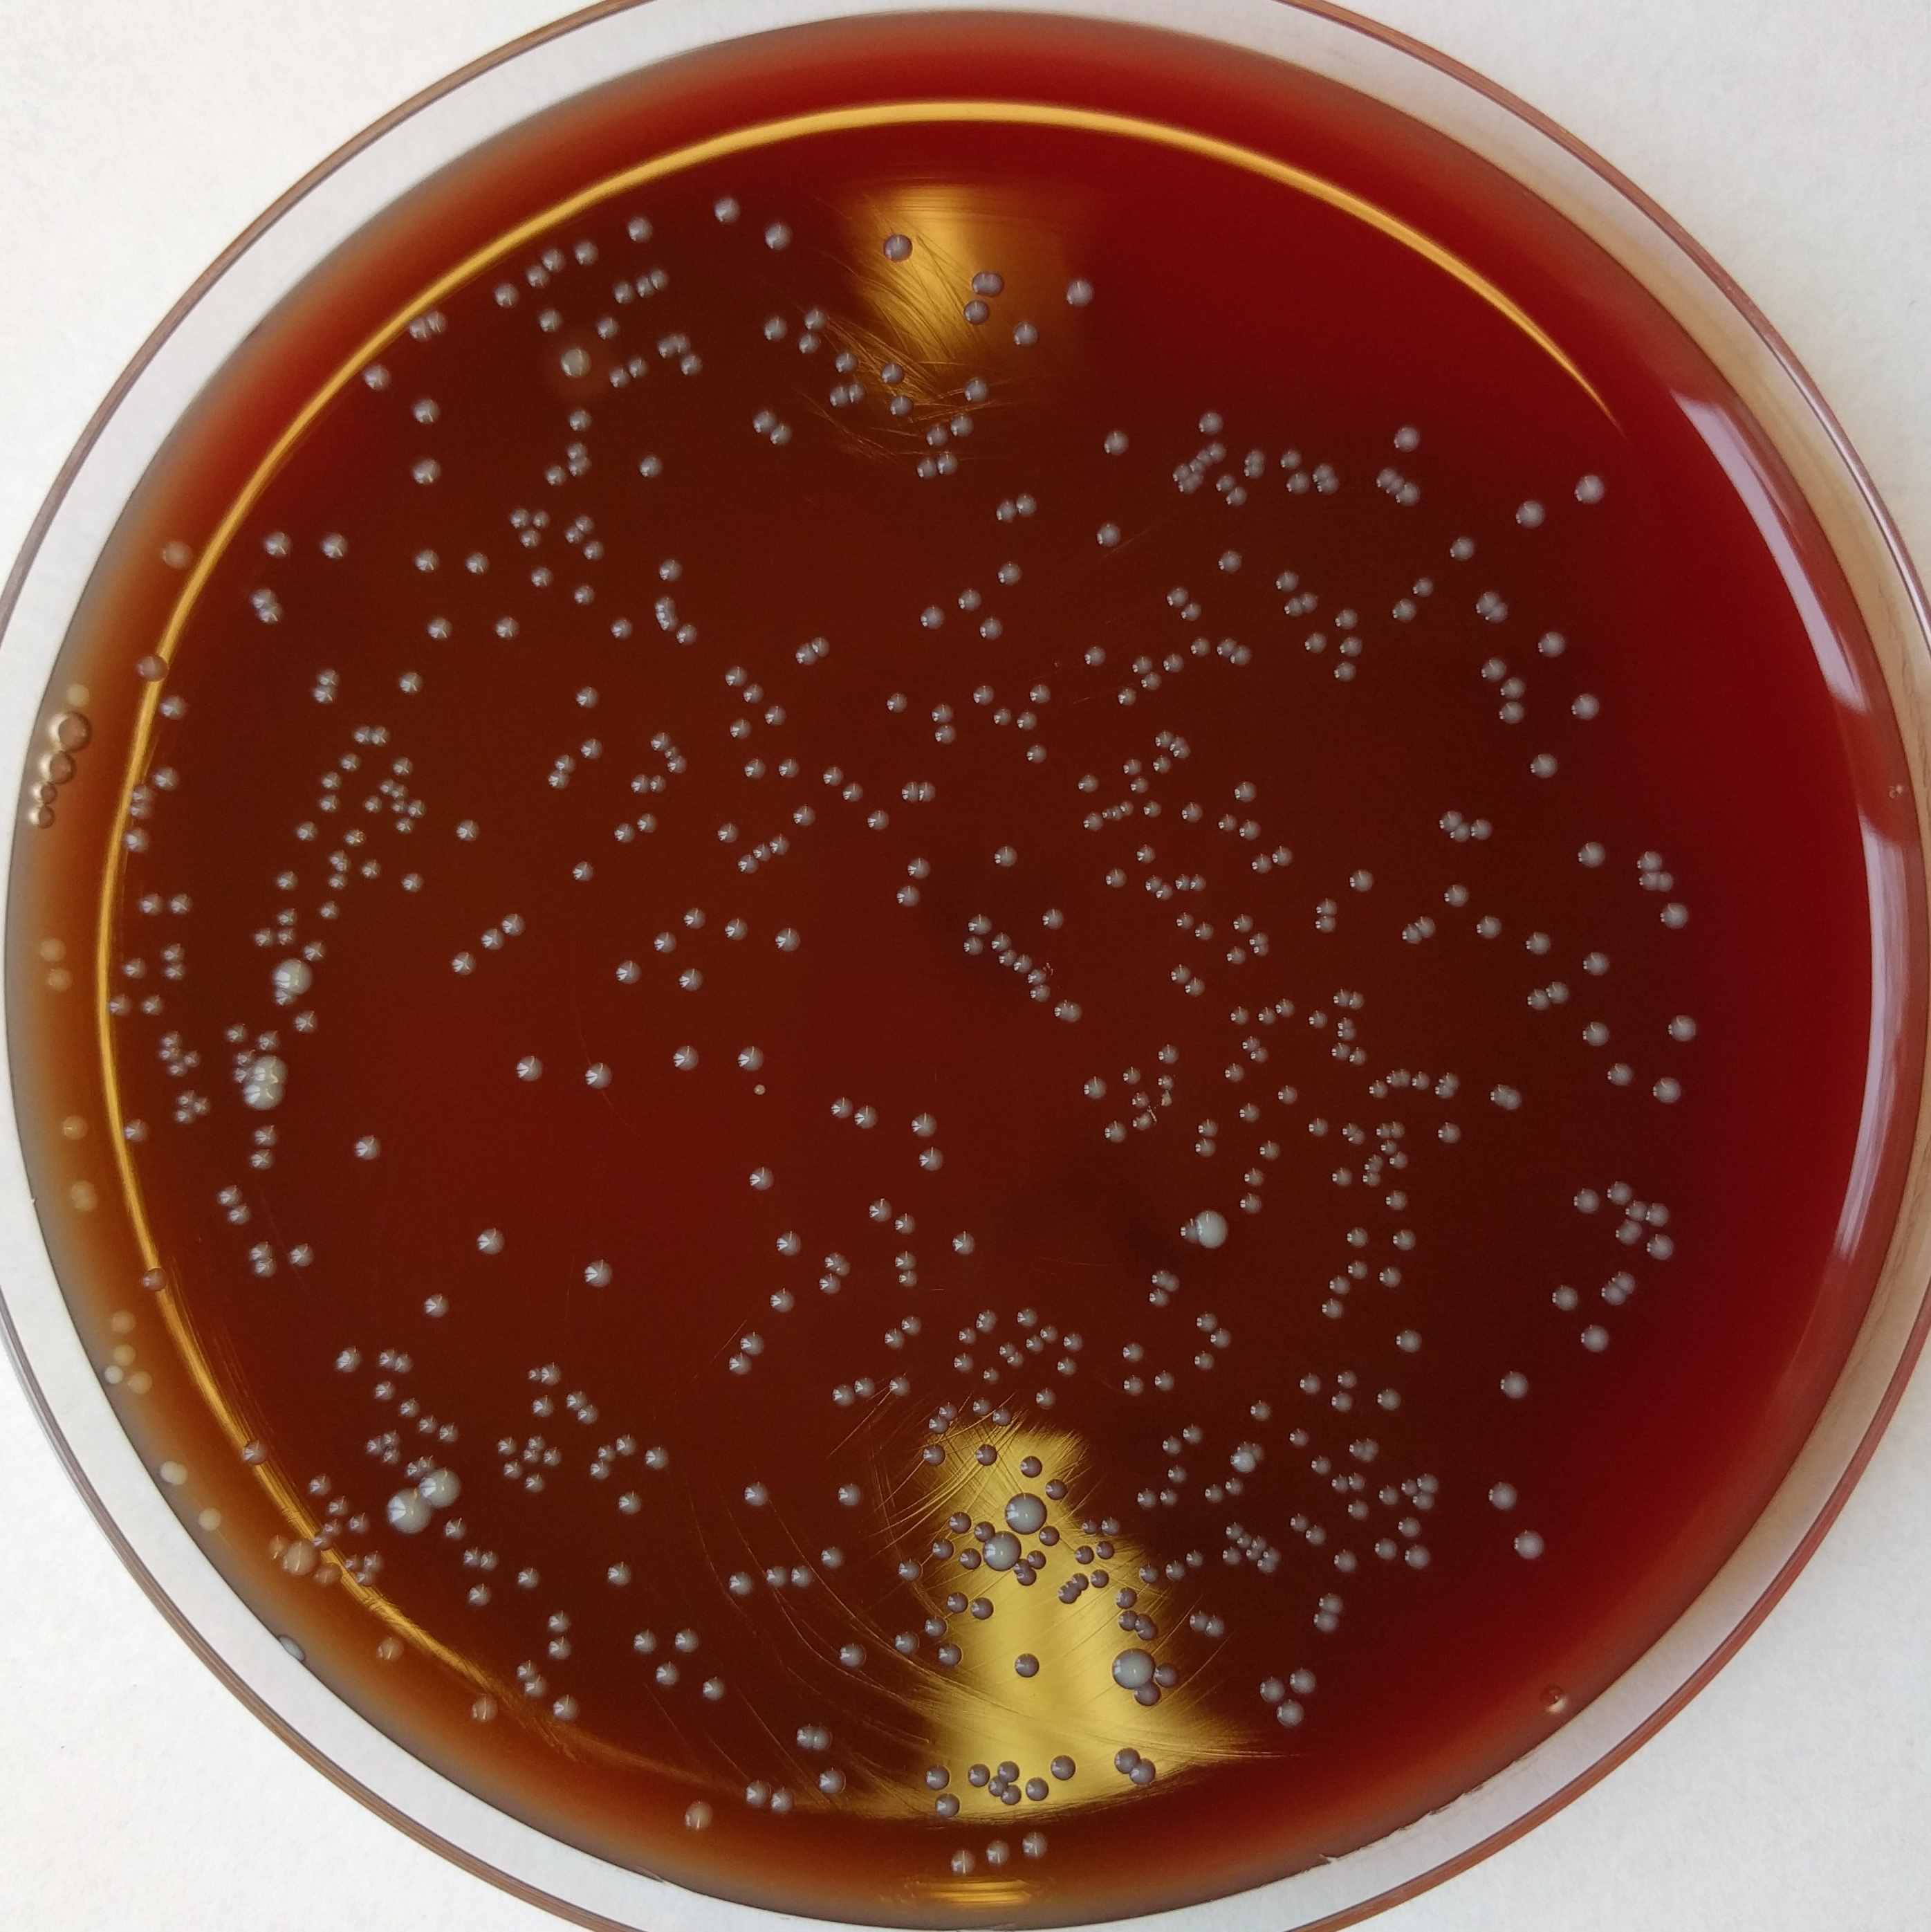sp23: (385, 1488, 431, 1539), (1004, 1488, 1049, 1534), (401, 453, 451, 494), (1109, 1644, 1156, 1684), (421, 1468, 465, 1507), (1061, 272, 1100, 315), (405, 393, 446, 432), (555, 341, 596, 380), (157, 536, 196, 577), (983, 1532, 1020, 1575), (470, 1223, 513, 1258), (271, 959, 320, 989), (1496, 1366, 1533, 1405), (260, 525, 297, 564), (117, 821, 154, 858), (1510, 1525, 1549, 1560), (813, 1764, 852, 1799), (359, 361, 398, 396), (760, 216, 796, 255), (157, 688, 193, 727), (240, 1085, 288, 1113), (582, 1058, 619, 1093), (584, 1254, 619, 1292), (1510, 499, 1549, 533), (1275, 1695, 1309, 1734), (614, 1488, 653, 1522), (133, 648, 172, 681), (1579, 1016, 1614, 1051), (419, 612, 454, 648), (35, 932, 71, 968), (1576, 1322, 1613, 1355), (889, 879, 927, 913), (44, 959, 78, 996), (453, 816, 490, 849), (318, 525, 352, 563), (1199, 1210, 1229, 1251), (1070, 1543, 1096, 1589), (1572, 467, 1607, 501), (1485, 1477, 1519, 1513), (469, 1695, 504, 1729), (1080, 1070, 1114, 1106), (670, 1040, 706, 1074), (773, 920, 806, 955), (904, 851, 937, 886), (58, 1111, 92, 1146), (133, 886, 168, 920), (1666, 1008, 1698, 1046), (1650, 1072, 1687, 1104), (1019, 1826, 1050, 1863), (522, 262, 559, 294), (711, 191, 743, 228), (352, 1131, 384, 1168), (120, 1111, 152, 1148), (251, 1056, 292, 1085), (831, 1640, 872, 1668), (1611, 1215, 1645, 1249), (739, 1477, 773, 1511), (736, 1040, 769, 1074), (511, 1051, 545, 1085), (721, 913, 755, 947), (631, 449, 665, 483), (106, 1306, 140, 1339), (1568, 688, 1604, 720), (1547, 1281, 1579, 1316), (683, 1796, 714, 1831), (766, 1284, 801, 1316), (773, 1228, 808, 1260), (410, 545, 446, 577), (394, 667, 430, 699), (534, 244, 569, 276), (311, 1557, 347, 1589), (286, 1238, 318, 1274), (152, 759, 184, 794), (1471, 913, 1508, 943), (988, 842, 1026, 872), (1477, 655, 1515, 683), (958, 295, 990, 329), (881, 232, 914, 264), (1659, 899, 1691, 932), (1643, 1230, 1676, 1261), (373, 1635, 407, 1667), (736, 1327, 767, 1361), (744, 1162, 778, 1194), (614, 957, 647, 989), (656, 554, 690, 586), (492, 610, 523, 644), (490, 280, 523, 311), (212, 1178, 246, 1210), (104, 987, 136, 1021), (117, 952, 150, 984), (308, 678, 341, 709), (1533, 630, 1568, 660), (1574, 839, 1609, 869), (548, 1695, 584, 1725), (246, 584, 283, 612), (835, 1479, 866, 1511), (893, 1555, 925, 1587), (916, 1143, 948, 1175), (677, 964, 709, 996), (974, 610, 1006, 642), (624, 212, 656, 244), (642, 1440, 674, 1472), (421, 1290, 453, 1322), (447, 947, 479, 978), (62, 678, 94, 709), (828, 349, 861, 379), (1448, 534, 1482, 564), (1496, 699, 1530, 729), (1287, 1665, 1317, 1698), (893, 1629, 927, 1660), (698, 1674, 732, 1704), (819, 1543, 852, 1573), (571, 235, 601, 269), (334, 1343, 364, 1376), (1089, 520, 1128, 545), (1568, 1185, 1600, 1215), (1374, 1384, 1406, 1414), (950, 1847, 981, 1877), (743, 1776, 773, 1808), (727, 1568, 757, 1599), (195, 1502, 225, 1534), (866, 1194, 897, 1226), (851, 1100, 881, 1132), (828, 1093, 858, 1125), (953, 584, 985, 614), (918, 602, 950, 632), (248, 1143, 279, 1173), (477, 922, 509, 952), (1390, 425, 1423, 453), (1496, 674, 1530, 702), (1528, 752, 1561, 780), (1316, 1295, 1349, 1323), (1401, 1541, 1434, 1569), (239, 1438, 272, 1467), (564, 453, 598, 481), (594, 311, 622, 345), (538, 303, 566, 336), (223, 1201, 256, 1230), (244, 1235, 278, 1263), (1606, 1058, 1636, 1088), (1609, 1267, 1639, 1297), (923, 1762, 953, 1792), (921, 1610, 951, 1640), (983, 1838, 1013, 1868), (1192, 1134, 1222, 1164), (958, 931, 988, 961), (865, 807, 895, 837), (304, 1467, 334, 1497), (140, 1263, 170, 1293), (221, 1017, 251, 1047), (752, 407, 783, 435), (1469, 589, 1501, 617), (1388, 1228, 1420, 1256), (1328, 1548, 1360, 1576), (1178, 1421, 1210, 1449), (1225, 1447, 1257, 1476), (1155, 1660, 1183, 1691), (603, 1560, 635, 1589), (787, 1560, 815, 1592), (911, 1108, 939, 1139), (566, 405, 598, 433), (347, 1509, 375, 1541), (324, 1491, 352, 1523), (110, 1339, 141, 1368), (271, 984, 302, 1012), (500, 908, 529, 939), (387, 752, 416, 784), (1579, 950, 1613, 977), (670, 1624, 704, 1651), (423, 310, 456, 336), (249, 1122, 285, 1146), (1100, 428, 1130, 456), (1409, 571, 1439, 600), (1162, 580, 1192, 609), (992, 559, 1022, 587), (1436, 807, 1466, 835), (1468, 814, 1498, 842), (1383, 1187, 1413, 1215), (1236, 1191, 1266, 1219), (1296, 1369, 1326, 1398), (1013, 1649, 1042, 1679), (932, 1790, 960, 1821), (769, 1785, 798, 1815), (653, 1660, 683, 1688), (626, 1626, 656, 1654), (515, 1658, 545, 1686), (545, 1608, 575, 1637), (513, 1564, 543, 1592), (1248, 849, 1277, 879), (1300, 1005, 1330, 1033), (1102, 1116, 1130, 1146), (920, 1440, 950, 1468), (679, 904, 709, 932), (1178, 796, 1206, 826), (721, 660, 750, 690), (739, 679, 769, 708), (573, 681, 601, 711), (569, 580, 599, 609), (543, 460, 573, 488), (538, 1359, 566, 1389), (251, 1254, 281, 1283), (140, 989, 168, 1019), (750, 1079, 776, 1111), (674, 350, 706, 377), (1194, 410, 1225, 437), (1524, 932, 1556, 959), (1392, 1325, 1423, 1352), (1126, 1759, 1158, 1785), (948, 1224, 974, 1256), (790, 803, 822, 830), (607, 361, 633, 393), (262, 1530, 288, 1562), (294, 1005, 320, 1037), (340, 824, 371, 851), (1439, 883, 1473, 908), (255, 603, 288, 628), (877, 359, 905, 387), (960, 377, 988, 405), (992, 499, 1020, 527), (1271, 568, 1300, 596), (1544, 978, 1572, 1007), (1643, 1200, 1671, 1228), (1431, 1079, 1459, 1108), (1378, 1481, 1406, 1509), (1112, 1746, 1141, 1775), (467, 1580, 495, 1608), (1179, 971, 1208, 1000), (829, 1380, 858, 1408), (651, 927, 679, 955), (965, 911, 994, 939), (882, 688, 911, 717), (527, 563, 555, 591), (463, 548, 492, 577), (520, 1467, 548, 1495), (126, 1368, 154, 1396), (569, 856, 598, 885), (762, 315, 789, 345), (1337, 632, 1363, 662), (1344, 1223, 1370, 1253), (1326, 1389, 1356, 1415), (1409, 1488, 1439, 1514), (1312, 1608, 1342, 1635), (1259, 1675, 1286, 1706), (967, 1596, 997, 1622), (1038, 906, 1068, 932), (889, 1210, 920, 1237), (760, 697, 787, 727), (741, 752, 767, 782), (564, 435, 594, 462), (530, 1391, 557, 1421), (168, 888, 195, 918), (276, 901, 302, 931), (317, 895, 343, 925), (398, 869, 428, 895), (1636, 847, 1668, 872), (810, 1723, 835, 1755), (518, 1674, 550, 1698), (65, 1178, 97, 1203), (1233, 1104, 1266, 1127), (1011, 320, 1038, 349), (886, 393, 914, 419), (1284, 469, 1312, 495), (1392, 596, 1418, 625), (1484, 600, 1512, 626), (1399, 920, 1425, 948), (1606, 1178, 1632, 1207), (1436, 1118, 1464, 1145), (1303, 1115, 1332, 1141), (1220, 1060, 1248, 1086), (1307, 1453, 1335, 1479), (1344, 1495, 1370, 1523), (1112, 1583, 1139, 1612), (1132, 1681, 1160, 1707), (965, 1760, 992, 1789), (764, 1560, 790, 1589), (1270, 842, 1298, 869), (898, 1311, 925, 1339), (1043, 1476, 1072, 1502), (727, 1348, 753, 1376), (893, 1246, 921, 1272), (852, 1373, 879, 1401), (714, 819, 743, 846), (1137, 667, 1165, 694), (928, 699, 957, 725), (610, 278, 637, 306), (499, 1456, 527, 1483), (159, 938, 187, 964), (302, 936, 329, 964), (612, 819, 638, 847), (633, 809, 661, 835), (315, 663, 343, 690), (914, 453, 939, 483), (1326, 1272, 1356, 1297), (1073, 771, 1103, 796), (794, 639, 819, 669), (575, 736, 605, 761), (506, 504, 536, 529), (407, 313, 431, 343), (361, 1546, 385, 1576), (271, 867, 301, 892), (129, 778, 159, 803), (624, 352, 647, 384), (1217, 548, 1243, 575), (1523, 985, 1549, 1012), (1376, 1265, 1402, 1292), (1393, 1513, 1420, 1539), (1192, 1348, 1218, 1375), (1024, 1775, 1050, 1801), (1224, 941, 1250, 968), (1079, 807, 1105, 833), (776, 755, 803, 782), (608, 616, 635, 642), (529, 504, 555, 531), (516, 522, 543, 548), (614, 1431, 640, 1458), (101, 1362, 127, 1389), (256, 1024, 283, 1051), (163, 957, 189, 984), (294, 817, 320, 844), (794, 331, 822, 356), (1372, 464, 1397, 492), (1227, 644, 1252, 672), (1333, 605, 1362, 630), (1347, 867, 1376, 892), (1411, 913, 1439, 938), (1600, 1281, 1625, 1309), (1333, 1366, 1362, 1391), (1248, 1398, 1277, 1422), (1164, 1461, 1192, 1486), (1190, 1309, 1218, 1334), (1050, 1755, 1079, 1780), (1188, 869, 1213, 897), (1119, 1341, 1148, 1366), (1121, 1371, 1146, 1399), (1061, 1327, 1086, 1355), (1033, 1384, 1057, 1412), (928, 1537, 957, 1562), (838, 780, 866, 805), (1213, 810, 1241, 835), (969, 681, 997, 706), (553, 750, 582, 775), (674, 619, 698, 648), (631, 272, 656, 301), (352, 1564, 377, 1592), (371, 1378, 400, 1403), (318, 766, 343, 794), (338, 750, 366, 775), (370, 724, 394, 752), (983, 269, 1006, 299), (1623, 1194, 1646, 1224), (1344, 1258, 1374, 1281), (1240, 1166, 1270, 1189), (935, 1644, 965, 1667), (1178, 1215, 1201, 1246), (414, 1412, 444, 1435), (156, 1042, 186, 1065), (1015, 490, 1036, 522), (67, 1194, 99, 1215), (948, 414, 974, 439), (801, 308, 828, 333), (1277, 444, 1301, 471), (1178, 600, 1204, 625), (1187, 633, 1211, 660), (1330, 660, 1356, 685), (1365, 1076, 1392, 1100), (1369, 1534, 1393, 1560), (1301, 1523, 1328, 1548), (1289, 1511, 1314, 1537), (1317, 1592, 1344, 1617), (1164, 1557, 1188, 1583), (944, 1589, 969, 1615), (460, 1545, 486, 1569), (1103, 867, 1130, 892), (1224, 1003, 1250, 1028), (1155, 1040, 1181, 1065), (988, 929, 1015, 954), (1121, 1063, 1146, 1090), (1130, 1108, 1155, 1134), (1015, 1304, 1042, 1329), (955, 1323, 981, 1348), (1020, 1453, 1045, 1479), (819, 1272, 845, 1297), (916, 778, 941, 805), (820, 764, 847, 789), (766, 832, 792, 856), (736, 851, 762, 876), (1233, 777, 1257, 803), (1141, 796, 1167, 821), (1029, 679, 1054, 706), (990, 704, 1017, 729), (647, 727, 674, 752), (582, 536, 607, 563), (320, 1516, 347, 1541), (439, 1417, 463, 1444), (396, 1392, 421, 1419), (587, 1456, 614, 1481), (251, 925, 278, 950), (359, 789, 384, 816), (1204, 439, 1227, 467), (1395, 479, 1418, 508), (1257, 1138, 1286, 1161), (1397, 1476, 1425, 1499), (1156, 1484, 1185, 1507), (996, 1760, 1024, 1783), (1277, 993, 1300, 1021), (974, 1440, 997, 1468), (930, 722, 958, 745), (727, 717, 755, 740), (543, 766, 571, 789), (172, 1104, 200, 1127), (794, 1721, 815, 1752), (157, 1458, 179, 1488), (935, 451, 960, 476), (1132, 651, 1156, 676), (1448, 819, 1473, 844), (1416, 1472, 1441, 1497), (1133, 1488, 1158, 1513), (1208, 1325, 1233, 1350), (958, 1546, 983, 1571), (948, 1507, 973, 1532), (545, 1635, 569, 1660), (1314, 893, 1339, 918), (1256, 1003, 1280, 1028), (1027, 982, 1052, 1007), (1056, 1353, 1080, 1378), (990, 1403, 1015, 1428), (822, 1249, 847, 1274), (882, 1327, 907, 1352), (1238, 816, 1263, 840), (1114, 683, 1139, 708), (311, 1529, 336, 1553), (523, 1431, 548, 1456), (575, 1401, 599, 1426), (375, 1346, 400, 1371), (391, 1348, 416, 1373), (1317, 476, 1344, 499), (1215, 637, 1241, 660), (1301, 633, 1328, 656), (1273, 1085, 1300, 1108), (1201, 1483, 1227, 1506), (1133, 1621, 1160, 1644), (1036, 1525, 1063, 1548), (442, 1516, 469, 1539), (1167, 962, 1194, 985), (1063, 1000, 1086, 1026), (1346, 987, 1369, 1014), (1335, 1024, 1362, 1047), (1026, 964, 1049, 991), (1130, 1085, 1153, 1111), (1148, 1286, 1174, 1309), (889, 1373, 912, 1399), (1165, 731, 1192, 754), (1024, 741, 1050, 764), (808, 635, 835, 658), (628, 771, 651, 798), (647, 267, 670, 294), (363, 1433, 385, 1460), (495, 1431, 518, 1458), (566, 1387, 589, 1414), (359, 856, 385, 879), (318, 791, 341, 817), (127, 798, 154, 821), (1487, 1081, 1508, 1109), (1328, 1166, 1356, 1187), (1181, 1546, 1210, 1568), (1204, 1614, 1225, 1642), (1024, 1329, 1045, 1357), (1174, 476, 1204, 495), (828, 384, 851, 409), (764, 421, 789, 444), (1162, 651, 1185, 676), (1409, 1069, 1432, 1093), (1388, 1148, 1411, 1173), (1287, 1426, 1310, 1451), (1217, 1545, 1241, 1568), (1151, 1369, 1176, 1392), (1187, 1608, 1210, 1633), (1137, 1560, 1162, 1583), (1100, 1513, 1125, 1536), (172, 1463, 196, 1486), (1312, 913, 1337, 936), (1174, 870, 1197, 895), (1141, 872, 1165, 895), (1192, 920, 1217, 943), (1231, 909, 1254, 934), (997, 947, 1020, 971), (1133, 840, 1156, 865), (1197, 1115, 1220, 1139), (935, 1399, 960, 1422), (925, 1414, 950, 1437), (897, 1265, 920, 1290), (750, 840, 775, 863), (1128, 773, 1153, 796), (1121, 755, 1146, 778), (1151, 725, 1176, 748), (1015, 708, 1038, 732), (658, 612, 683, 635), (573, 511, 598, 534), (541, 1444, 564, 1468), (594, 1440, 617, 1465), (173, 1086, 198, 1109), (405, 796, 428, 821), (1169, 462, 1195, 483), (1151, 1265, 1172, 1292), (898, 778, 920, 805), (562, 522, 584, 548), (159, 1028, 186, 1049), (232, 1047, 260, 1067), (1118, 1605, 1135, 1635), (923, 423, 946, 446), (1225, 485, 1248, 508), (1310, 460, 1333, 483), (1278, 594, 1301, 617), (1653, 870, 1676, 893), (1438, 1067, 1461, 1090), (1328, 1040, 1351, 1063), (1248, 1042, 1271, 1065), (1328, 1472, 1351, 1495), (999, 1782, 1022, 1805), (1153, 881, 1176, 904), (981, 1364, 1004, 1387), (951, 1352, 974, 1375), (341, 1550, 364, 1573), (378, 1444, 401, 1467), (327, 869, 350, 892), (847, 380, 868, 405), (672, 331, 697, 352), (658, 334, 679, 359), (1503, 1086, 1524, 1111), (1360, 1168, 1385, 1189), (1222, 1476, 1247, 1497), (1095, 1539, 1119, 1560), (971, 1394, 992, 1419), (665, 755, 690, 777), (653, 591, 677, 612), (164, 1058, 189, 1079), (278, 924, 299, 948), (1245, 929, 1271, 948), (1187, 453, 1208, 476), (1213, 471, 1236, 492), (1082, 646, 1105, 667), (1158, 1435, 1181, 1456), (1233, 1530, 1256, 1552), (973, 1520, 996, 1541), (479, 1548, 500, 1571), (1174, 909, 1195, 932), (1248, 941, 1271, 962), (1013, 952, 1034, 975), (1040, 1323, 1061, 1346), (1149, 752, 1172, 773), (649, 773, 670, 796), (403, 1460, 424, 1483), (191, 1093, 212, 1116), (230, 1063, 253, 1085), (394, 816, 417, 837), (969, 271, 988, 295), (1639, 867, 1659, 892), (1220, 1520, 1245, 1539), (1050, 998, 1070, 1023), (1238, 1033, 1263, 1053), (973, 1318, 997, 1338), (325, 847, 350, 867), (1332, 984, 1347, 1014), (1089, 1568, 1111, 1589), (1054, 1585, 1075, 1606), (985, 1776, 1006, 1798), (1156, 1070, 1178, 1092), (973, 1307, 1001, 1323), (380, 1428, 401, 1449), (377, 777, 398, 798), (1241, 464, 1264, 483), (1241, 449, 1264, 469), (1385, 474, 1404, 497), (1300, 589, 1319, 612), (1346, 1472, 1369, 1491), (1026, 1550, 1049, 1569), (1004, 1350, 1027, 1369), (1118, 796, 1137, 819), (653, 605, 675, 625), (184, 1047, 203, 1070), (1250, 1440, 1268, 1465), (352, 720, 370, 745), (1158, 1086, 1174, 1113), (1378, 1136, 1399, 1155), (1248, 1532, 1268, 1553), (997, 1339, 1019, 1359), (835, 1260, 854, 1281), (389, 796, 410, 816), (389, 782, 408, 803), (1337, 1120, 1360, 1138), (1346, 1437, 1363, 1460), (1015, 1568, 1038, 1585), (520, 1447, 543, 1465), (1347, 1046, 1367, 1065), (1388, 1120, 1408, 1139), (1337, 1010, 1356, 1030), (417, 1453, 437, 1472), (1347, 1129, 1369, 1146), (1165, 1272, 1183, 1293), (1172, 743, 1194, 761), (334, 856, 355, 874), (1395, 1067, 1411, 1090), (1241, 1545, 1257, 1568), (1008, 1557, 1031, 1573), (1365, 1152, 1385, 1169), (1234, 1438, 1254, 1456), (1256, 1555, 1273, 1575), (1263, 1545, 1280, 1564), (525, 1364, 543, 1384), (1383, 1067, 1399, 1088), (1109, 803, 1125, 824), (1356, 1447, 1374, 1465), (1132, 1610, 1149, 1628), (1080, 1516, 1098, 1534), (1192, 448, 1211, 464), (661, 745, 681, 761), (1374, 1120, 1390, 1138), (1360, 1437, 1378, 1453), (1362, 1157, 1378, 1171), (1100, 807, 1114, 821)
